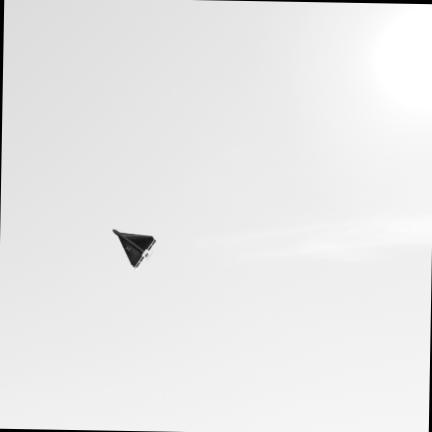Shahed: (113, 229, 155, 268)
